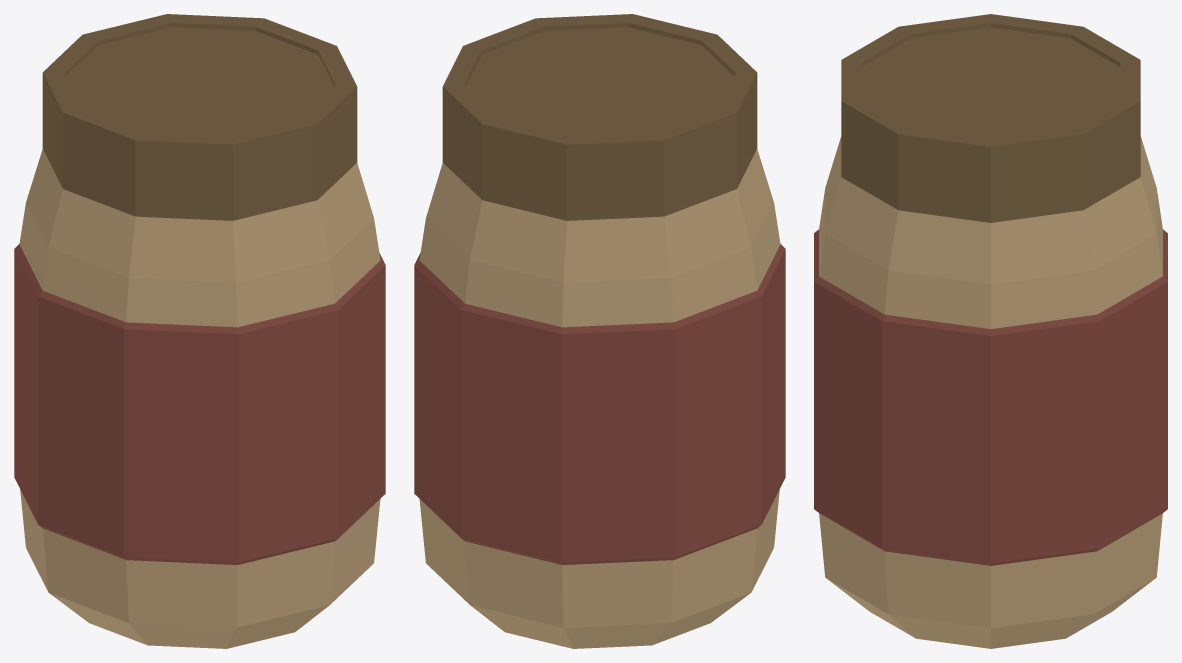
Rendered from PeanutButter.glb.
The picture shows the model from 3 angles, left to right: view 1: azimuth 30°, elevation 25°; view 2: azimuth 150°, elevation 25°; view 3: azimuth 270°, elevation 25°; orthographic projection.
Parts seen in each view (by area): view 1: PeanutButter; view 2: PeanutButter; view 3: PeanutButter.
Part boxes in pixels (<box>): PeanutButter: <box>14,14,385,648</box>; PeanutButter: <box>414,14,785,648</box>; PeanutButter: <box>814,14,1167,648</box>.
Size of the model in its own units: 0.4746 by 0.7243 by 0.4514.
